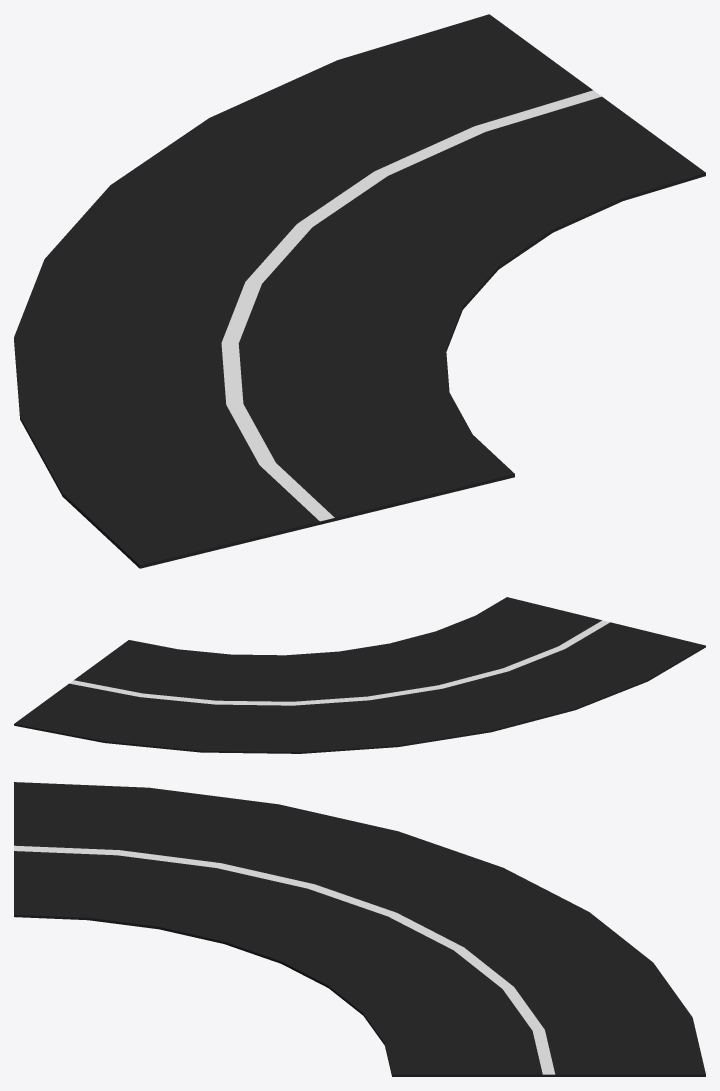
File: LandingTrack3Curve2_AIRPORT_0.obj
The picture shows the model from 3 angles, top to bottom: view 1: azimuth 30°, elevation 25°; view 2: azimuth 150°, elevation 25°; view 3: azimuth 270°, elevation 25°; orthographic projection. The views are drawn at different scales.
Visible parts, largest first — view 1: LandingTrack3Curve2_AIRPORT_0; view 2: LandingTrack3Curve2_AIRPORT_0; view 3: LandingTrack3Curve2_AIRPORT_0.
Boxes of the visible parts, box(x1,y1,x2,y2) form: LandingTrack3Curve2_AIRPORT_0: box(14, 14, 705, 568); LandingTrack3Curve2_AIRPORT_0: box(14, 597, 705, 753); LandingTrack3Curve2_AIRPORT_0: box(14, 782, 705, 1076).
Size of the model in its own units: 181 by 0.7001 by 181.
1 material, 1 textured.
